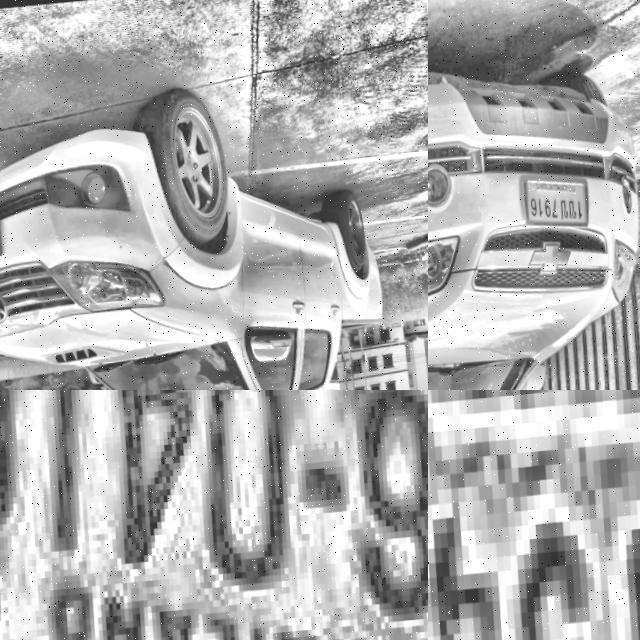license-plate: (0, 390, 428, 640), (428, 390, 640, 640), (518, 167, 594, 236)
